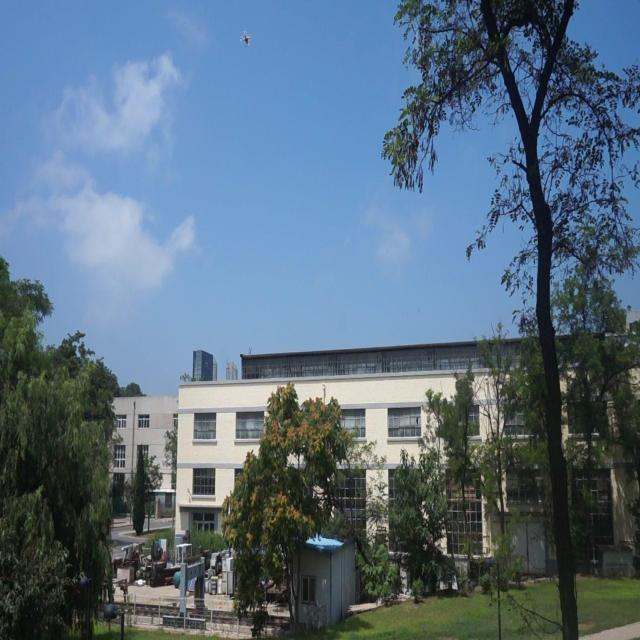drone: (239, 28, 253, 52)
